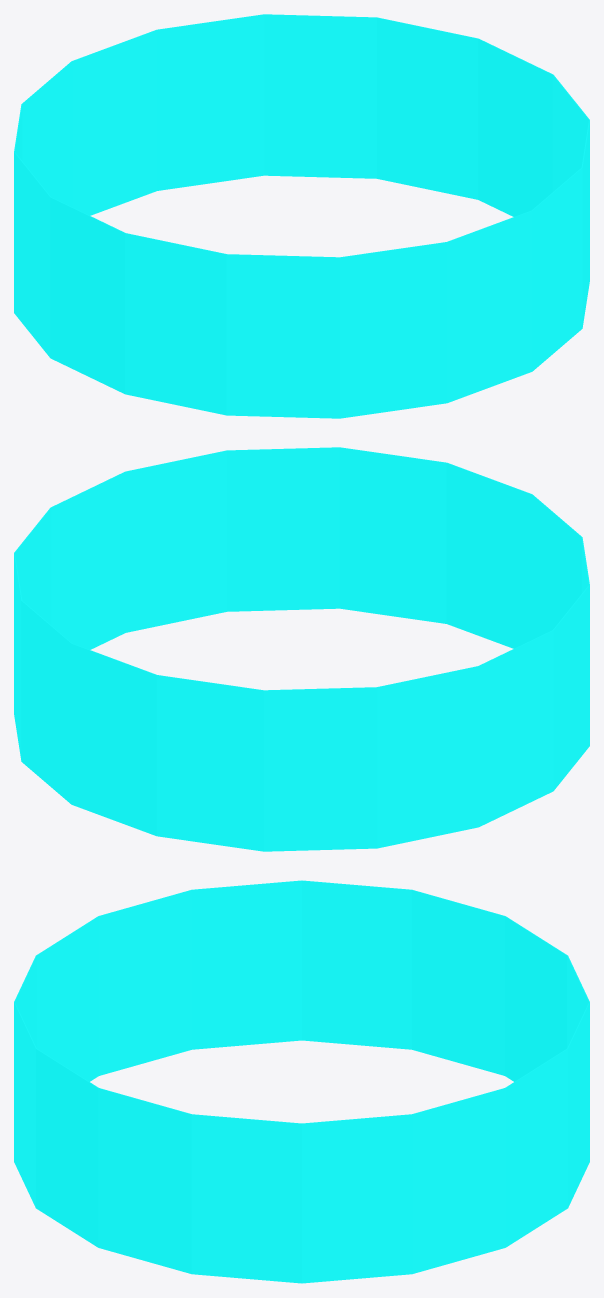
Rendered from walk_mark.glb.
3 views of the same model, one above another, from view 1: azimuth 30°, elevation 25°; view 2: azimuth 150°, elevation 25°; view 3: azimuth 270°, elevation 25° (orthographic).
Visible parts, largest first — view 1: Cylinder; view 2: Cylinder; view 3: Cylinder.
Part boxes in pixels (bbox=[...]): Cylinder: bbox=[14, 14, 589, 418]; Cylinder: bbox=[14, 447, 589, 851]; Cylinder: bbox=[14, 880, 589, 1283].
Bounding box in the file's own units: 0.5797 × 0.1773 × 0.5797.
